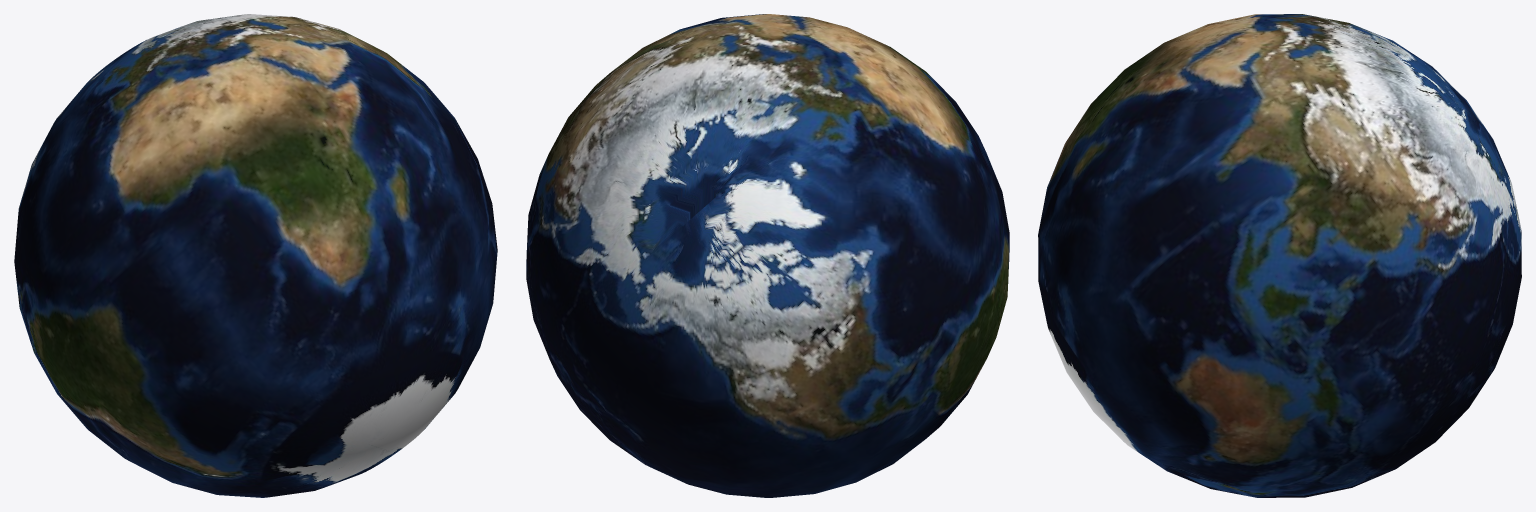
Rendered from aretzs.gltf.
3 views of the same model, side by side, from view 1: azimuth 30°, elevation 25°; view 2: azimuth 150°, elevation 25°; view 3: azimuth 270°, elevation 25° (orthographic).
Parts seen in each view (by area): view 1: Sphere; view 2: Sphere; view 3: Sphere.
Boxes of the visible parts, x1,y1,x2,y2 form: Sphere: (14, 14, 497, 497); Sphere: (526, 14, 1009, 497); Sphere: (1038, 14, 1521, 497).
Bounding box in the file's own units: 3.91 × 3.91 × 3.9.
1 material, 1 textured.
